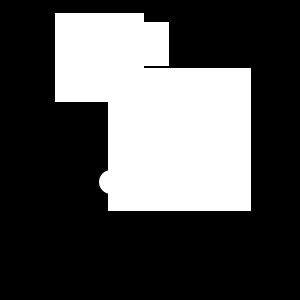circle: (108, 68, 251, 211), (55, 13, 144, 102), (125, 22, 169, 66)
rectangle: (99, 170, 123, 194)
